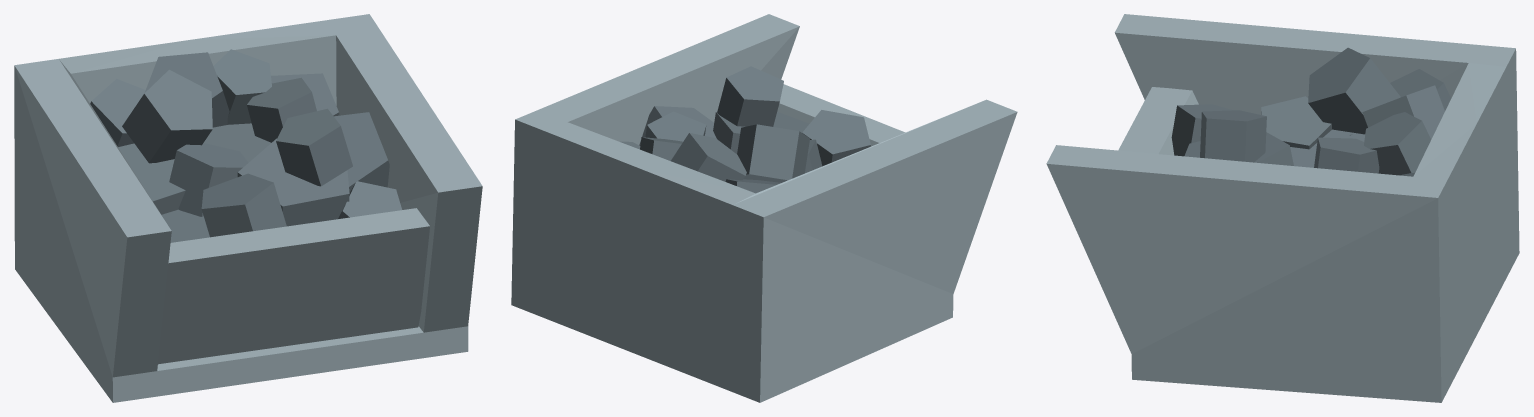
Rendered from weight_set.glb.
3 views of the same model, side by side, from view 1: azimuth 30°, elevation 25°; view 2: azimuth 150°, elevation 25°; view 3: azimuth 270°, elevation 25° (orthographic). The views are drawn at different scales.
Parts seen in each view (by area): view 1: weight_set; view 2: weight_set; view 3: weight_set.
Boxes of the visible parts, left/top/right/bottom form: weight_set: left=14, top=14, right=482, bottom=402; weight_set: left=511, top=14, right=1017, bottom=402; weight_set: left=1046, top=14, right=1519, bottom=402.
Size of the model in its own units: 0.347 by 0.1979 by 0.3562.
